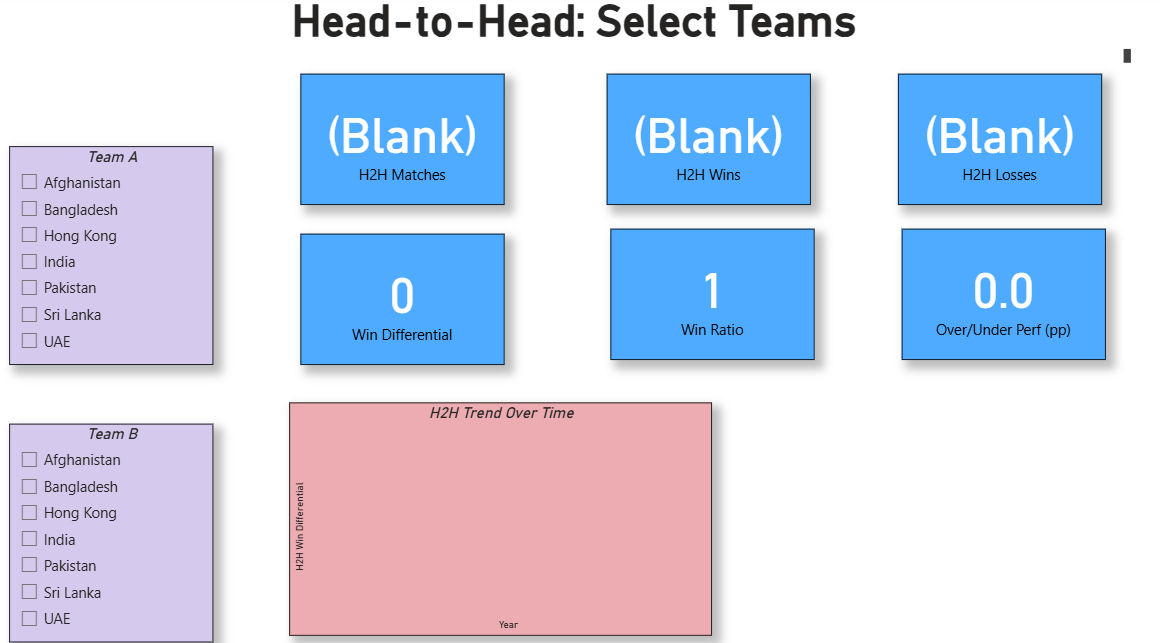

What the dashboard file says about the page in this screenshot:
{"tool":"powerbi","page":{"name":"Rivalries Explorer","canvas":[1280,720],"ordinal":2},"visuals":[{"type":"slicer","title":"Team A","fields":{"Values":["MatchesLong.All.Team"]},"box":[11.8,166.7,224,240],"z":0},{"type":"slicer","title":"Team B","fields":{"Values":["TeamB.TeamB"]},"box":[11.8,470.7,224,240],"z":1000},{"type":"card","fields":{"Values":["TeamB.H2H Matches"]},"box":[331.8,86.7,224,144],"z":2000},{"type":"card","fields":{"Values":["MatchesLong.H2H Wins"]},"box":[667.8,86.7,224,144],"z":3000},{"type":"card","fields":{"Values":["MatchesLong.H2H Losses"]},"box":[987.8,86.7,224,144],"z":4000},{"type":"card","fields":{"Values":["MatchesLong.Win Differential"]},"box":[331.8,262.7,224,144],"z":5000},{"type":"card","fields":{"Values":["MatchesLong.Win Ratio"]},"box":[672,256,224,144],"z":6000},{"type":"card","fields":{"Values":["MatchesLong.Over/Under Perf (pp)"]},"box":[992,256,224,144],"z":7000},{"type":"lineClusteredColumnComboChart","title":"H2H Trend Over Time","fields":{"Category":["MatchesLong.All.Year"],"Y":["MatchesLong.H2H Wins"],"Y2":["MatchesLong.H2H Win Differential"]},"box":[320,448,464,256],"z":8000},{"type":"textbox","box":[16,0,1232,80],"z":9000}]}

Visuals, with their boxes in screenshot pixels (x1, y1, x2, y2), scaled from the page's 1280x720 canvas onto the 1160x643 screenshot:
"Team A" slicer: 11, 149, 214, 363
"Team B" slicer: 11, 420, 214, 635
card - TeamB.H2H Matches: 301, 77, 504, 206
card - MatchesLong.H2H Wins: 605, 77, 808, 206
card - MatchesLong.H2H Losses: 895, 77, 1098, 206
card - MatchesLong.Win Differential: 301, 235, 504, 363
card - MatchesLong.Win Ratio: 609, 229, 812, 357
card - MatchesLong.Over/Under Perf (pp): 899, 229, 1102, 357
"H2H Trend Over Time" lineClusteredColumnComboChart: 290, 400, 710, 629
textbox: 14, 0, 1131, 71
